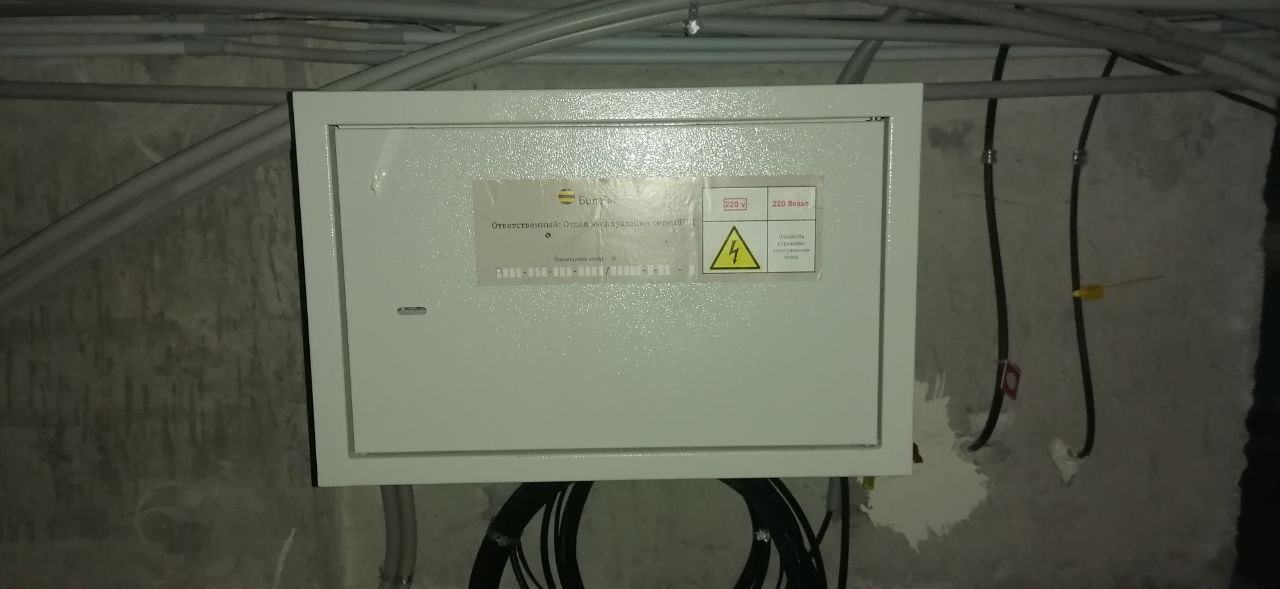shta-7m: (276, 69, 937, 501)
